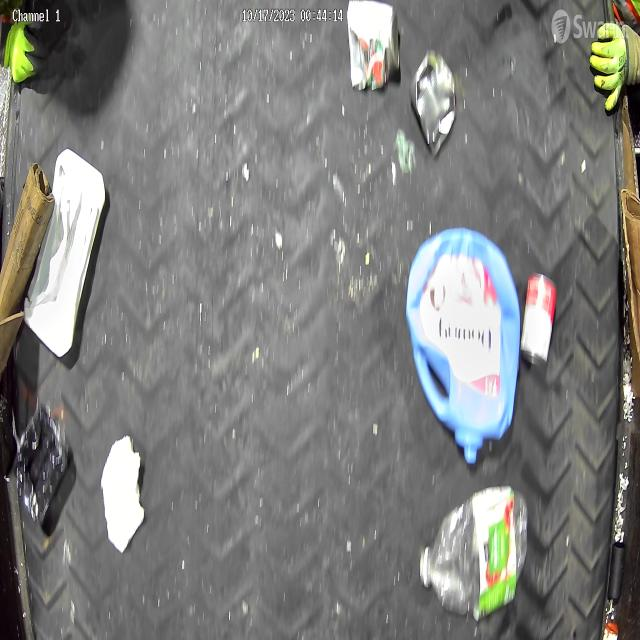can: (409, 47, 456, 157), (346, 0, 401, 91), (524, 271, 558, 368)
non_white_jug: (402, 238, 522, 464)
plastic_bottle: (422, 486, 530, 618)
